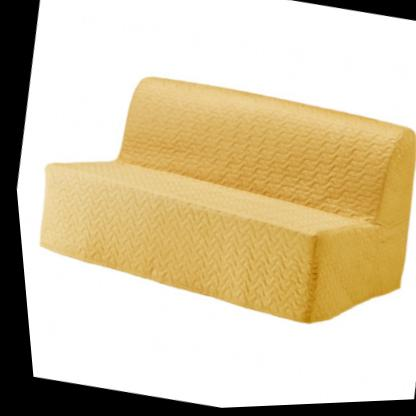Sofa: (7, 43, 416, 358)
